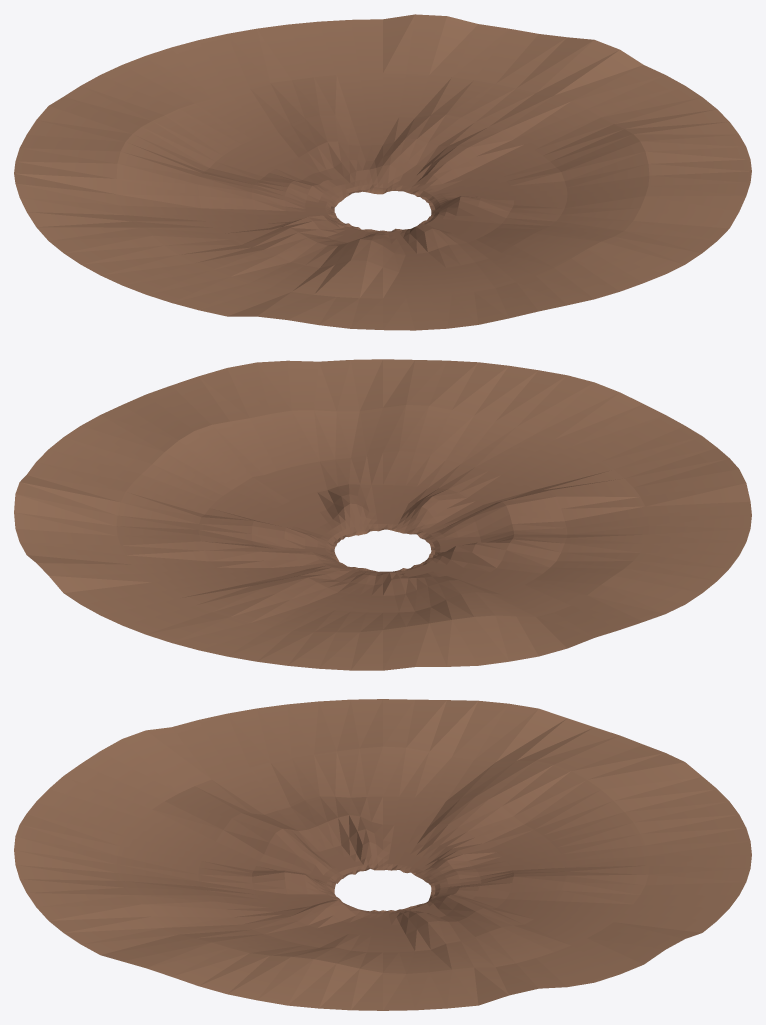
Rendered from terrain_far.glb.
3 views of the same model, one above another, from view 1: azimuth 30°, elevation 25°; view 2: azimuth 150°, elevation 25°; view 3: azimuth 270°, elevation 25° (orthographic).
Visible parts, largest first — view 1: terrain_far; view 2: terrain_far; view 3: terrain_far.
Boxes of the visible parts, bbox=[...] form: terrain_far: bbox=[14, 14, 751, 330]; terrain_far: bbox=[14, 359, 751, 670]; terrain_far: bbox=[14, 699, 751, 1010].
Size of the model in its own units: 1800 by 127 by 1800.
